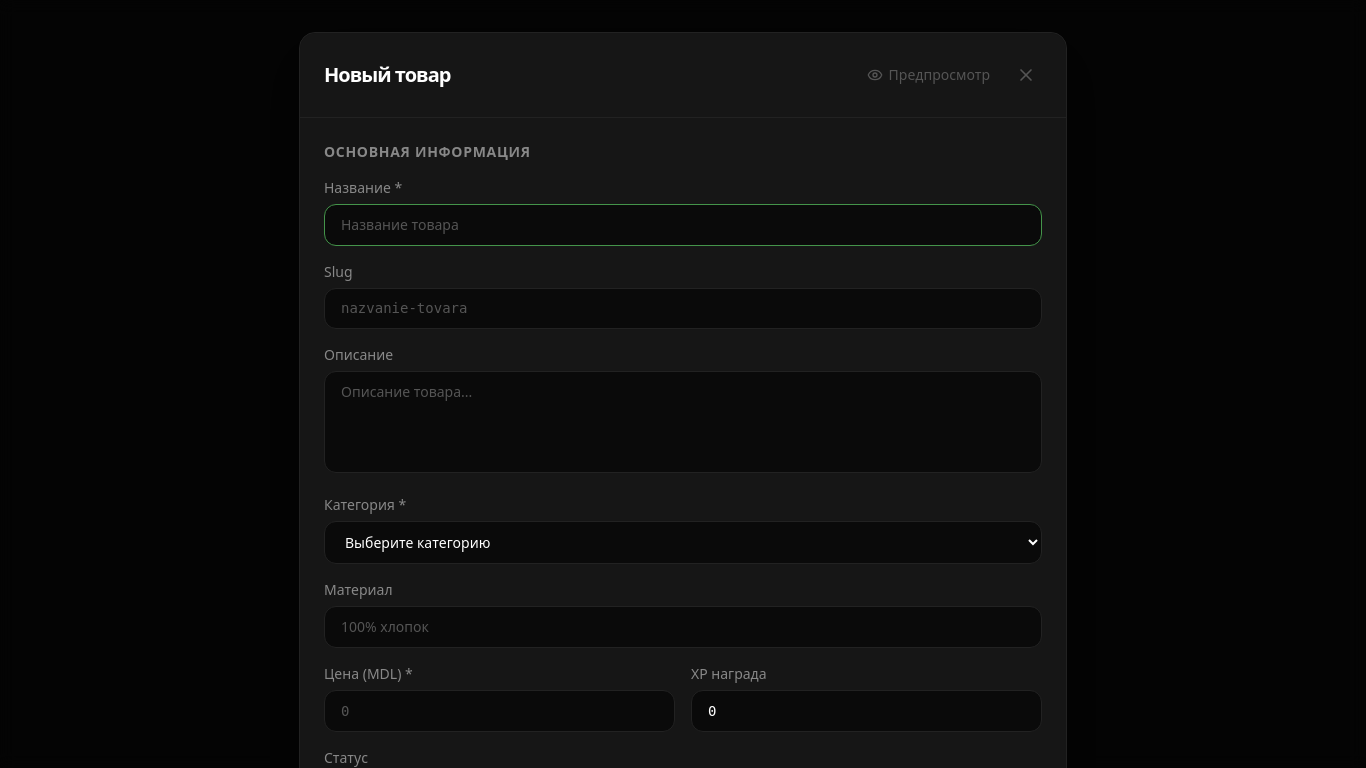
ProductForm — brand editor (KAN-14) › adds brands as chips and shows the joined card name
The width and height of the screenshot is (1366, 768).
expect the field with test id "pf-name" is shown: met, box [324,204,1042,246]
Select "Одежда" in the dropdown with test id "pf-category" at (683, 542), box [324,521,1042,564]
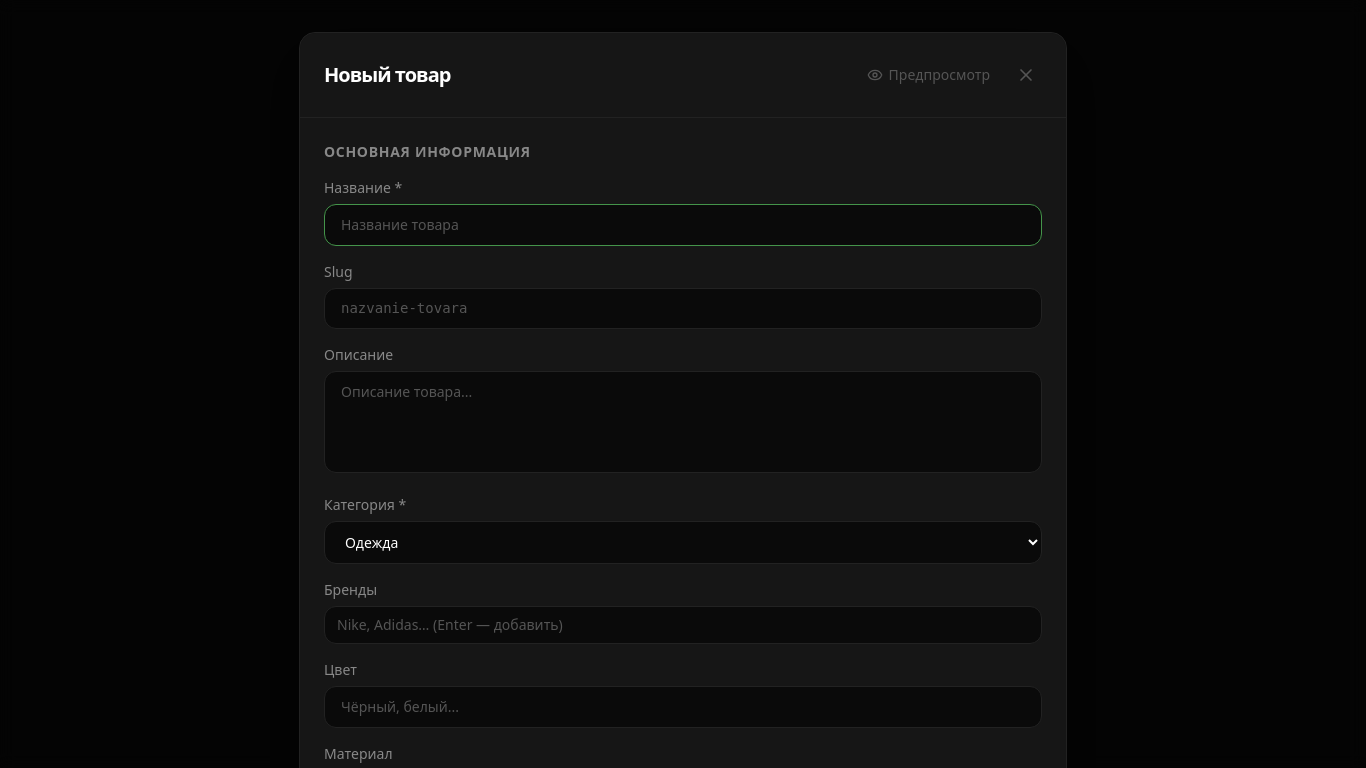
Type "Bape" into the field with test id "brand-input" at (683, 625), box [337,615,1029,635]
Then press Enter
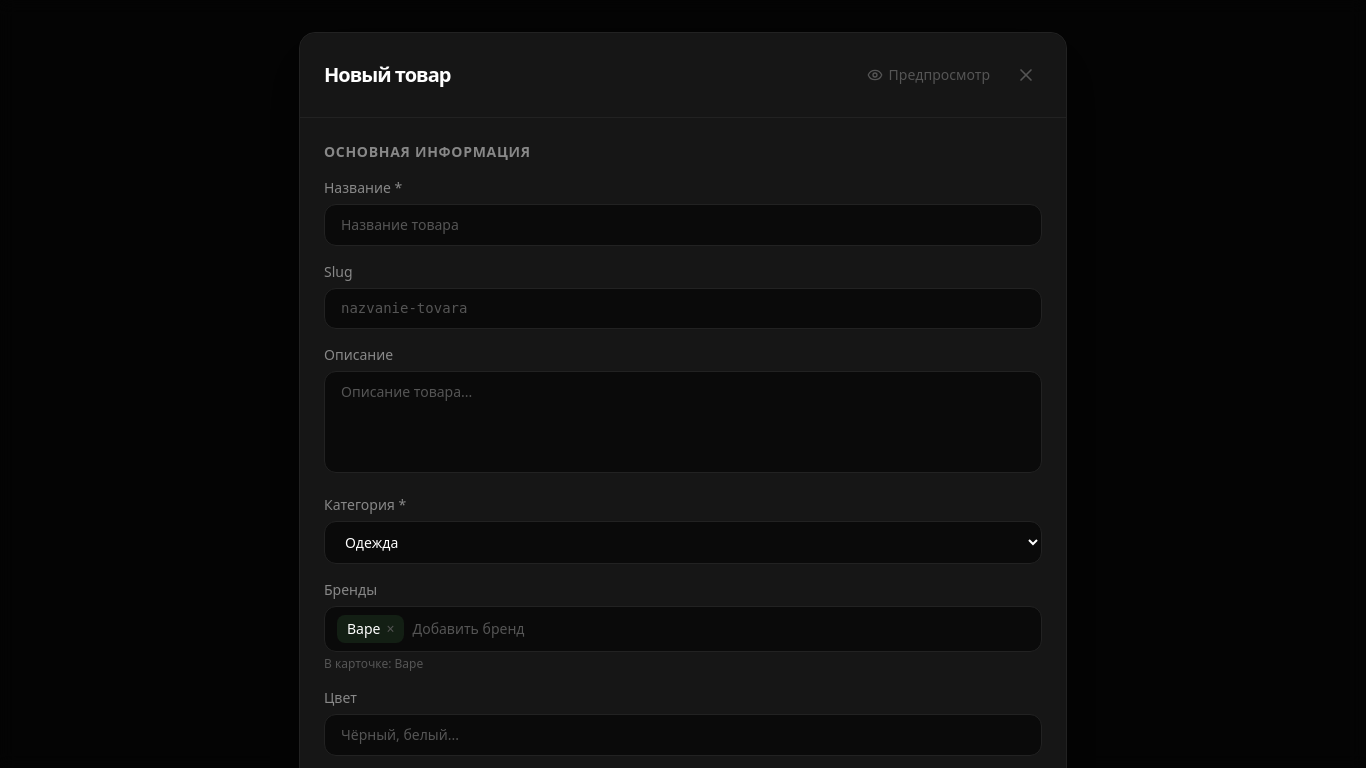
Type "Mastermind" into the field with test id "brand-input" at (721, 629), box [412,615,1029,643]
Then press Enter
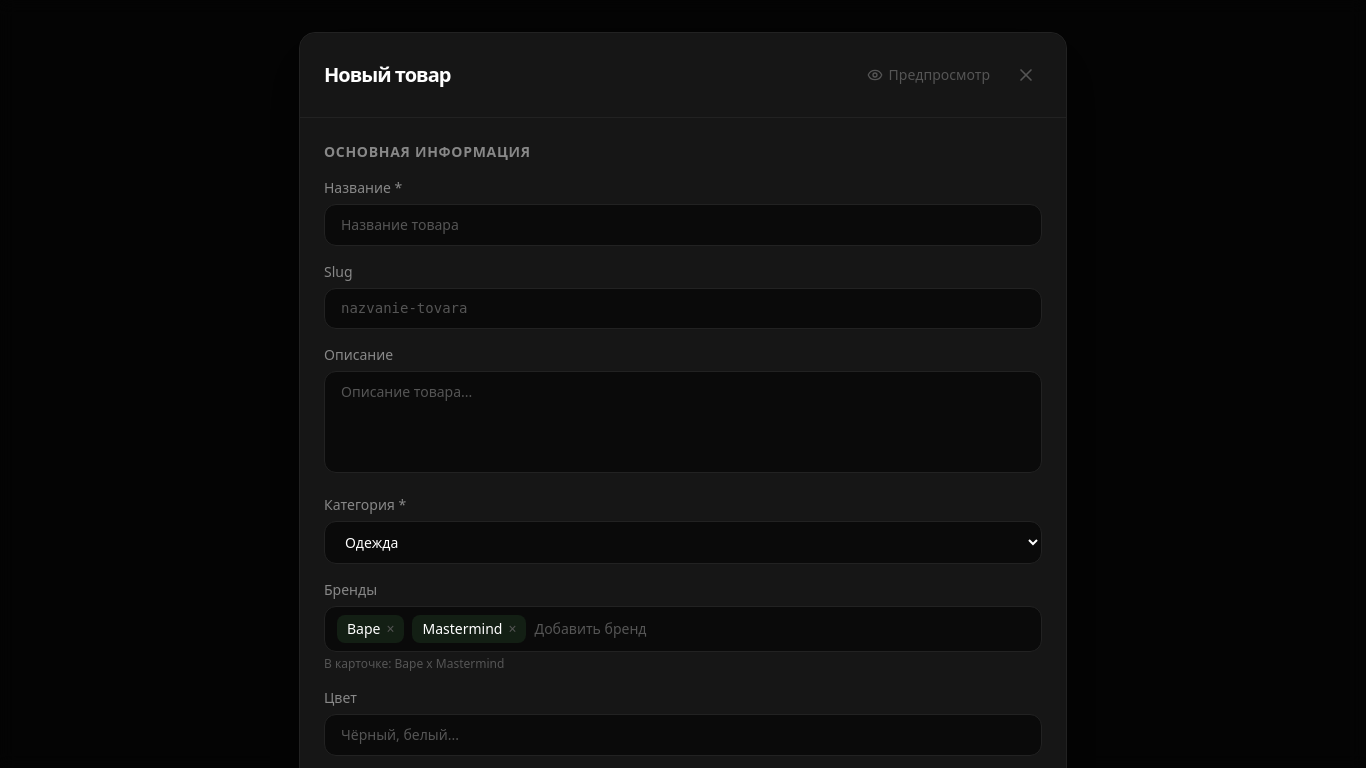
expect the element with test id "brand-chip-bape" is shown: met, box [337,615,404,643]
expect the element with test id "brand-chip-mastermind" is shown: met, box [412,615,526,643]
expect the text "В карточке: Bape x Mastermind" is shown: met, box [324,655,504,672]
